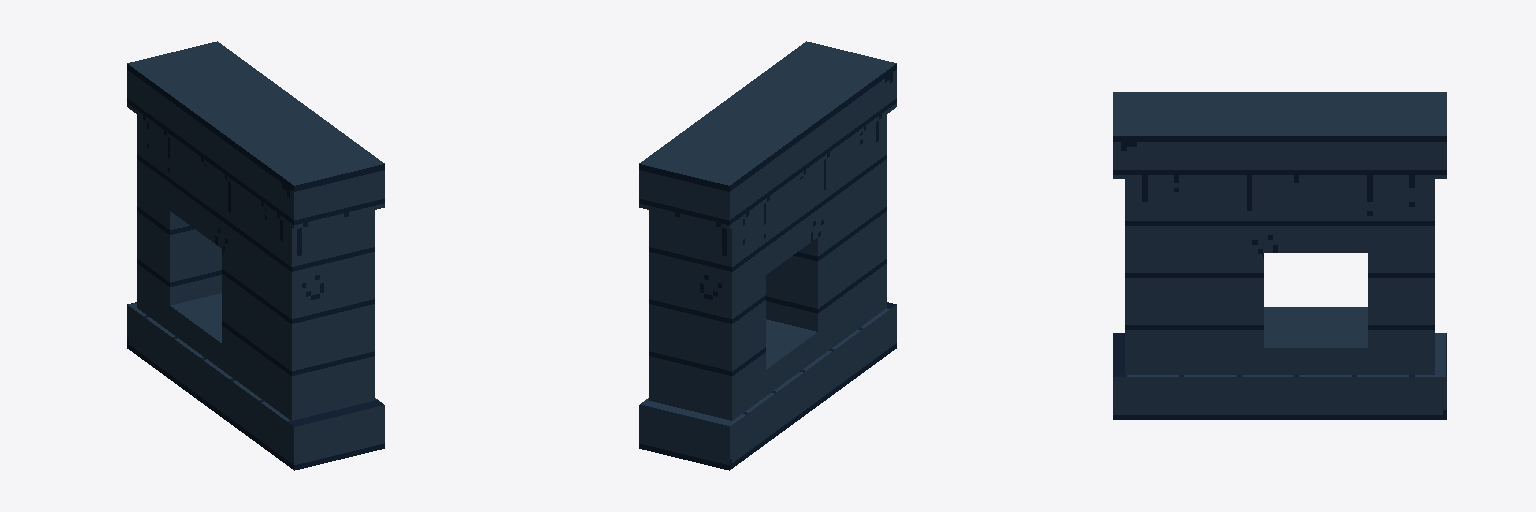
The picture shows the model from 3 angles: view 1: azimuth 30°, elevation 25°; view 2: azimuth 150°, elevation 25°; view 3: azimuth 270°, elevation 25°; orthographic projection.
Parts seen in each view (by area): view 1: Cube; view 2: Cube; view 3: Cube.
Boxes of the visible parts, <box> form: Cube: <box>127,41,384,470</box>; Cube: <box>639,41,896,470</box>; Cube: <box>1113,92,1446,419</box>.
Bounding box in the file's own units: 2 × 6.01 × 6.41.
1 materials, 1 textured.